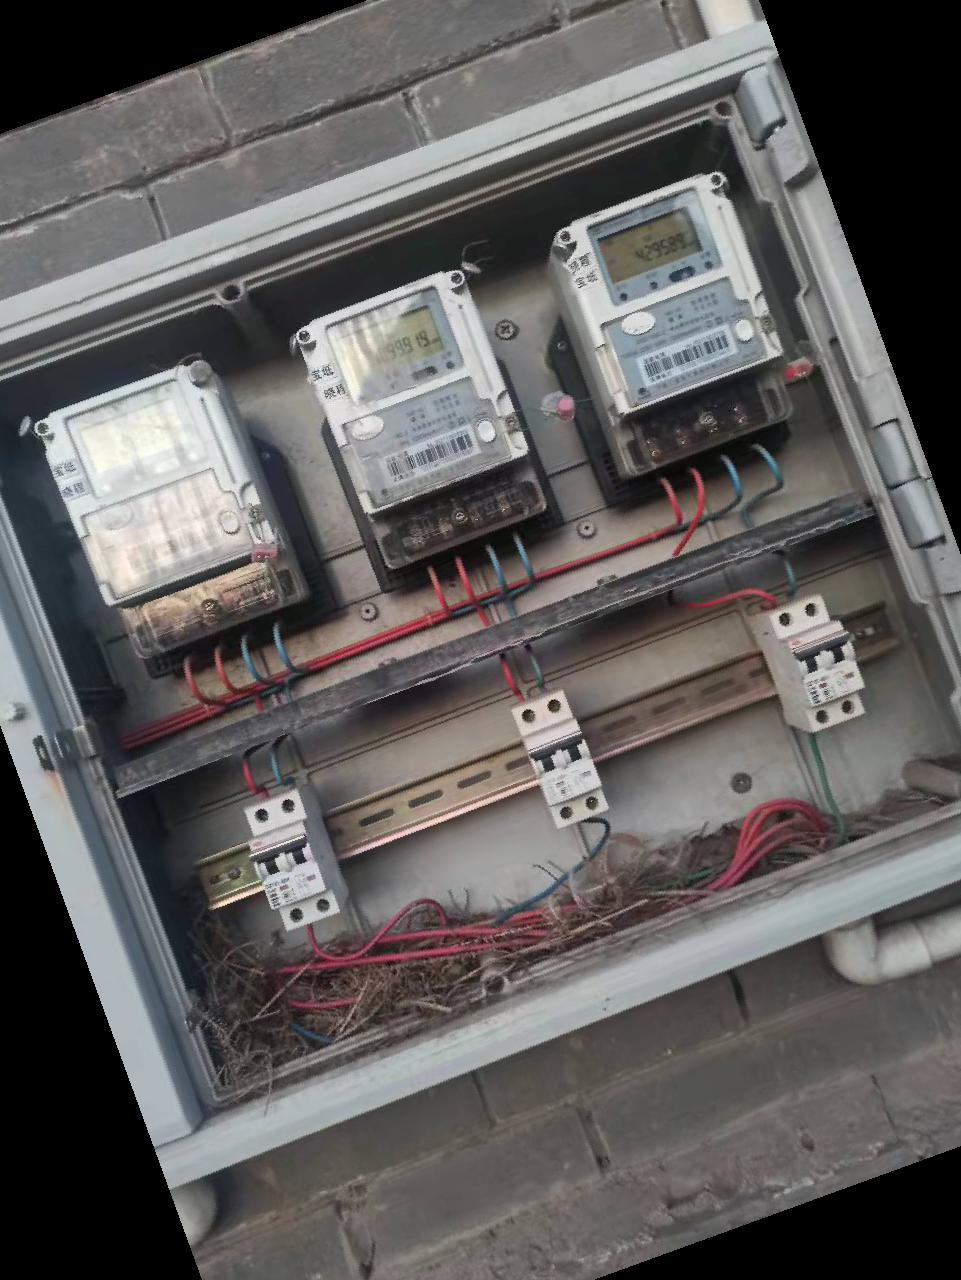digital: (33, 365, 268, 605), (302, 269, 527, 514), (550, 177, 776, 411)
